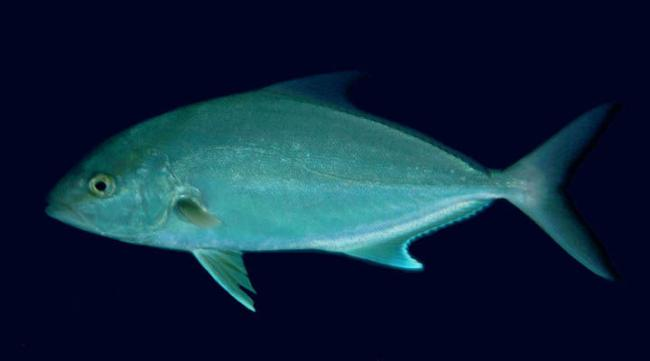fish: (44, 73, 613, 312)
